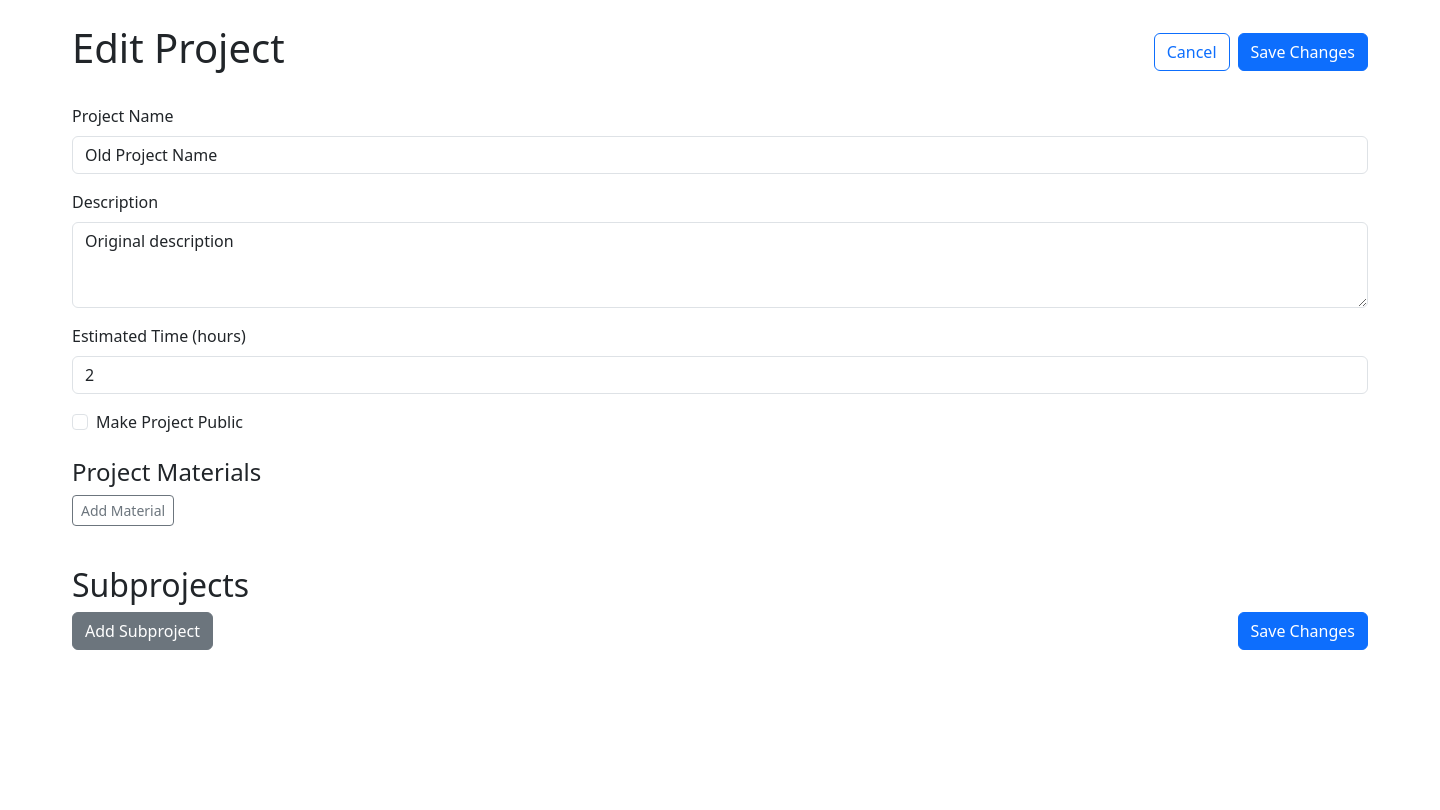
Test: EditProjectPage transactional save flow › shows edit failure and keeps user input for retry
Expected: the heading "Edit Project" is shown, [72,24,285,72]
Replace the text in the field with "Will Retry Name": x=720, y=155 [72,136,1368,174]
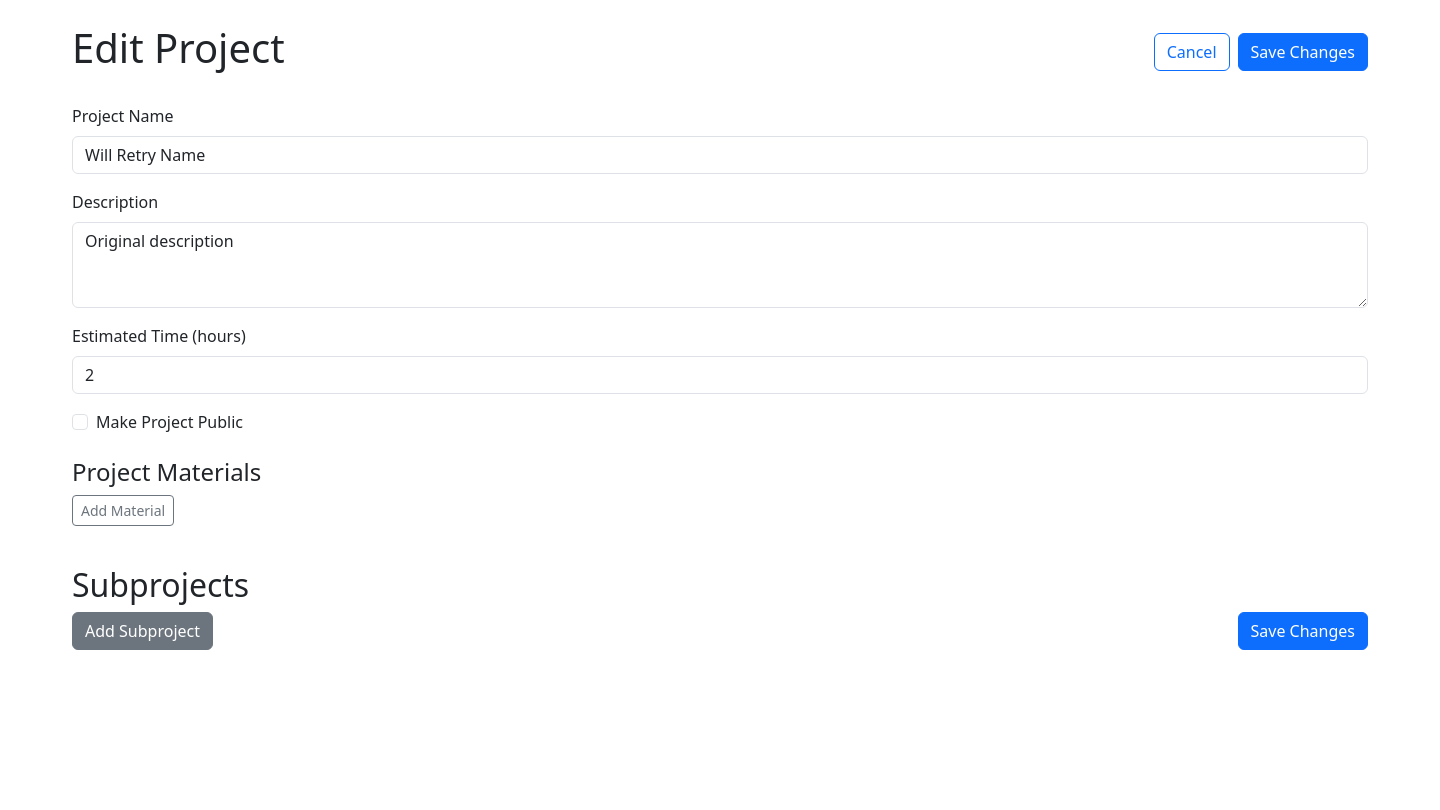
Click the button "Save Changes" in the row of "Edit Project": x=1303, y=52 [1238,33,1368,71]
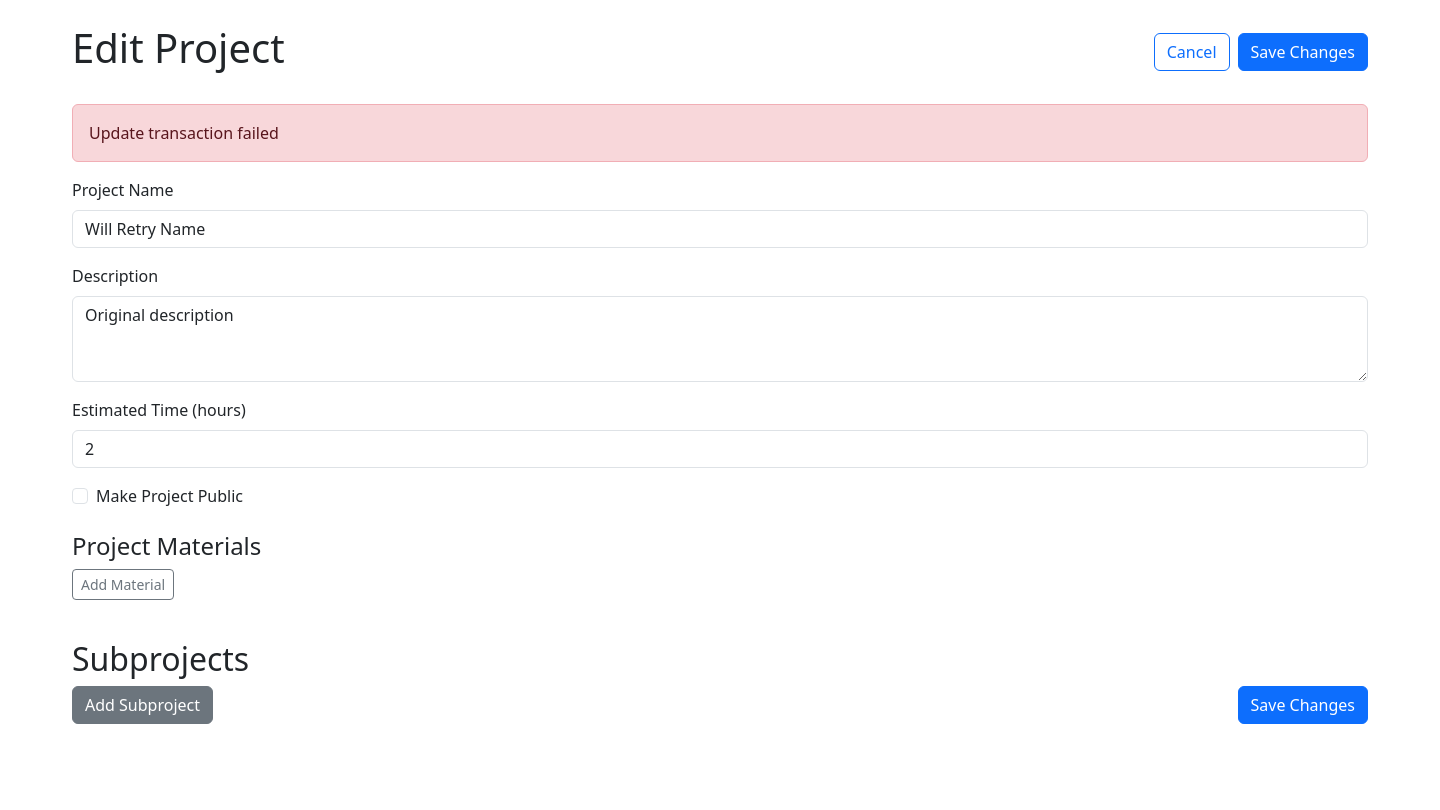
Expected: the text "Update transaction failed" is shown, [72,104,1368,162]
